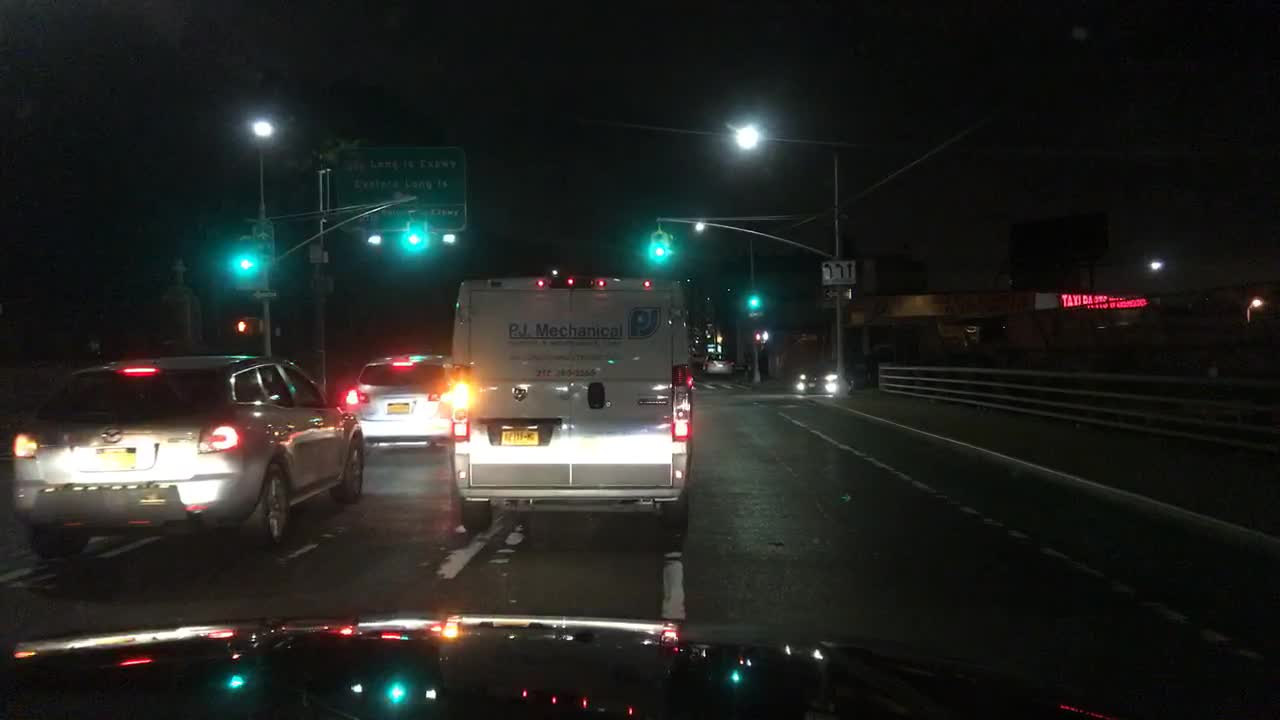car: (8, 352, 366, 566), (447, 272, 696, 539), (344, 352, 456, 449), (795, 353, 876, 394), (701, 351, 734, 378)
traffic light: (402, 224, 429, 251), (648, 230, 671, 261), (230, 251, 257, 276), (233, 316, 263, 338), (744, 288, 765, 315), (749, 327, 765, 343)
traffic sign: (332, 143, 467, 234), (251, 222, 276, 269), (822, 258, 858, 285), (313, 271, 336, 294), (251, 285, 278, 304), (307, 242, 329, 263), (823, 286, 853, 301)
